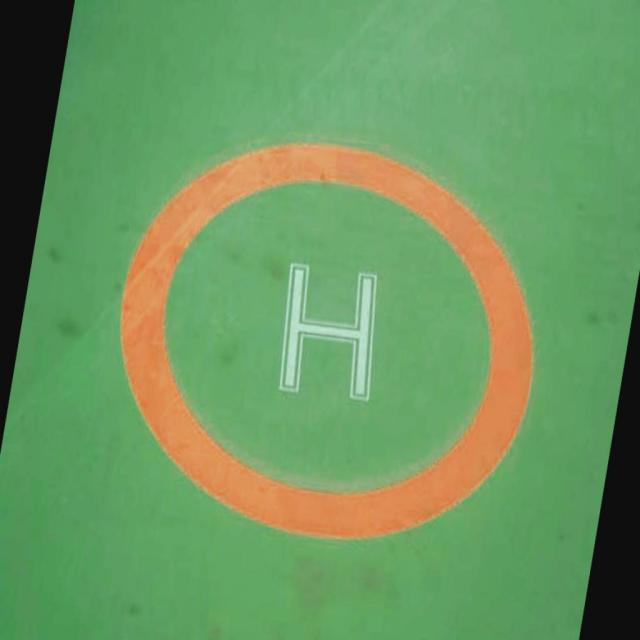helipad: (106, 134, 542, 546)
